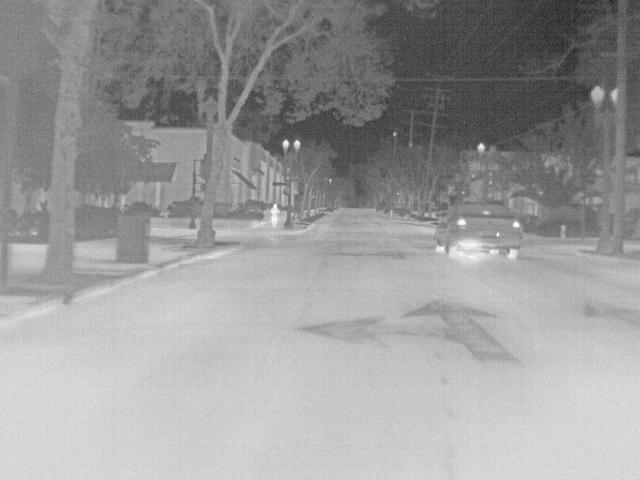car: (433, 202, 523, 260), (393, 206, 412, 220), (378, 202, 391, 214)
person: (271, 203, 280, 227)
